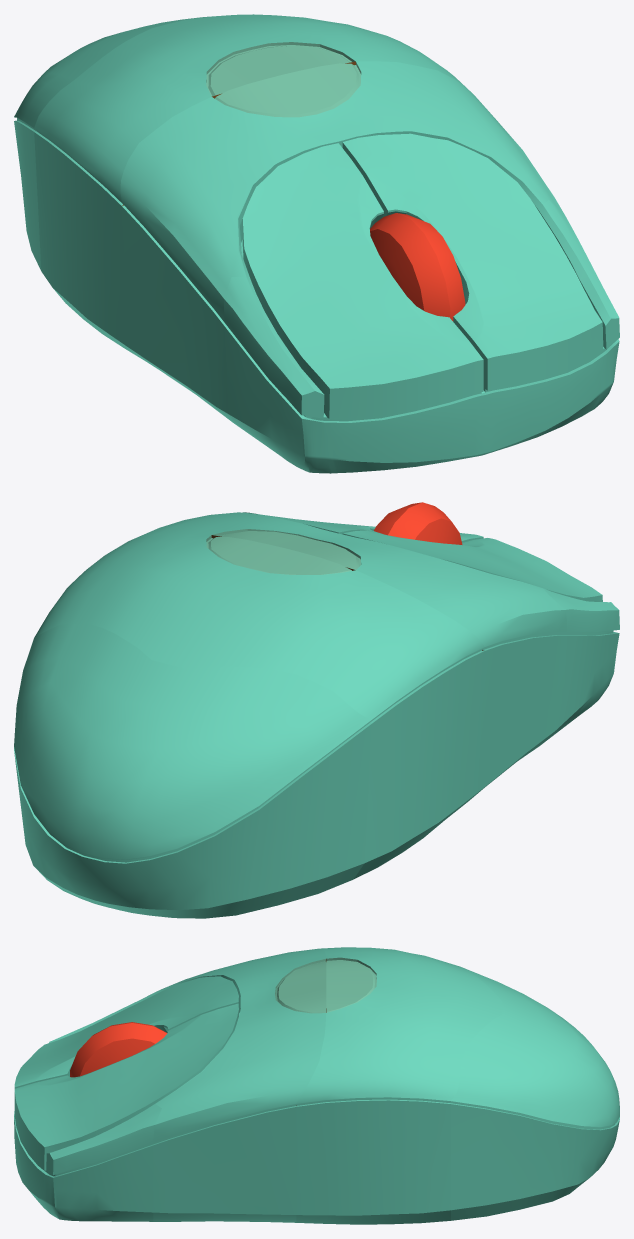
File: MouseFinal.fbx
The picture shows the model from 3 angles, top to bottom: view 1: azimuth 30°, elevation 25°; view 2: azimuth 150°, elevation 25°; view 3: azimuth 270°, elevation 25°; orthographic projection. The views are drawn at different scales.
Parts seen in each view (by area): view 1: mouse1, mouse2, mouse3; view 2: mouse3, mouse2, mouse1; view 3: mouse1, mouse2, mouse3.
Part boxes in pixels (<box>): mouse1: <box>120,61,619,473</box>; mouse2: <box>34,14,470,357</box>; mouse3: <box>14,16,212,270</box>; mouse3: <box>14,623,371,918</box>; mouse2: <box>34,534,484,879</box>; mouse1: <box>132,502,619,800</box>; mouse1: <box>14,948,326,1222</box>; mouse2: <box>296,947,502,1224</box>; mouse3: <box>450,967,619,1220</box>.
Size of the model in its own units: 22.45 by 14.05 by 41.82.
Materials: 1 (1 with a texture image).
